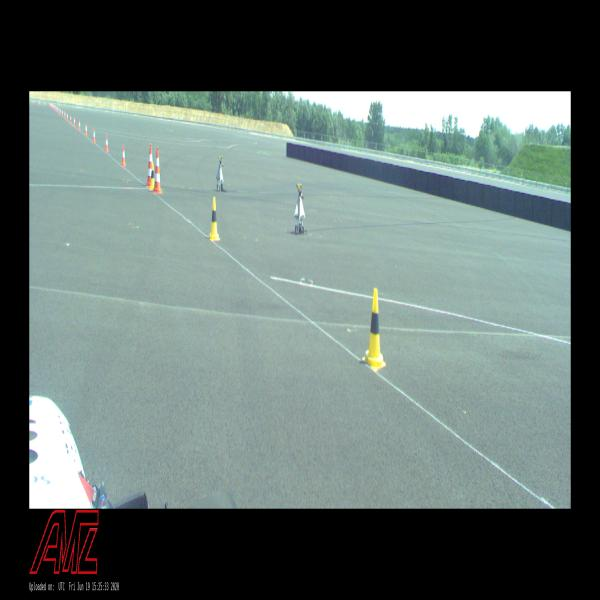large_orange_cone: (152, 146, 163, 194), (146, 144, 153, 187)
orange_cone: (121, 145, 126, 166), (104, 135, 109, 152), (92, 128, 96, 143), (84, 123, 88, 135), (78, 120, 80, 130), (74, 117, 76, 126)
yellow_cone: (362, 288, 386, 372), (209, 197, 221, 241), (149, 162, 155, 190)
